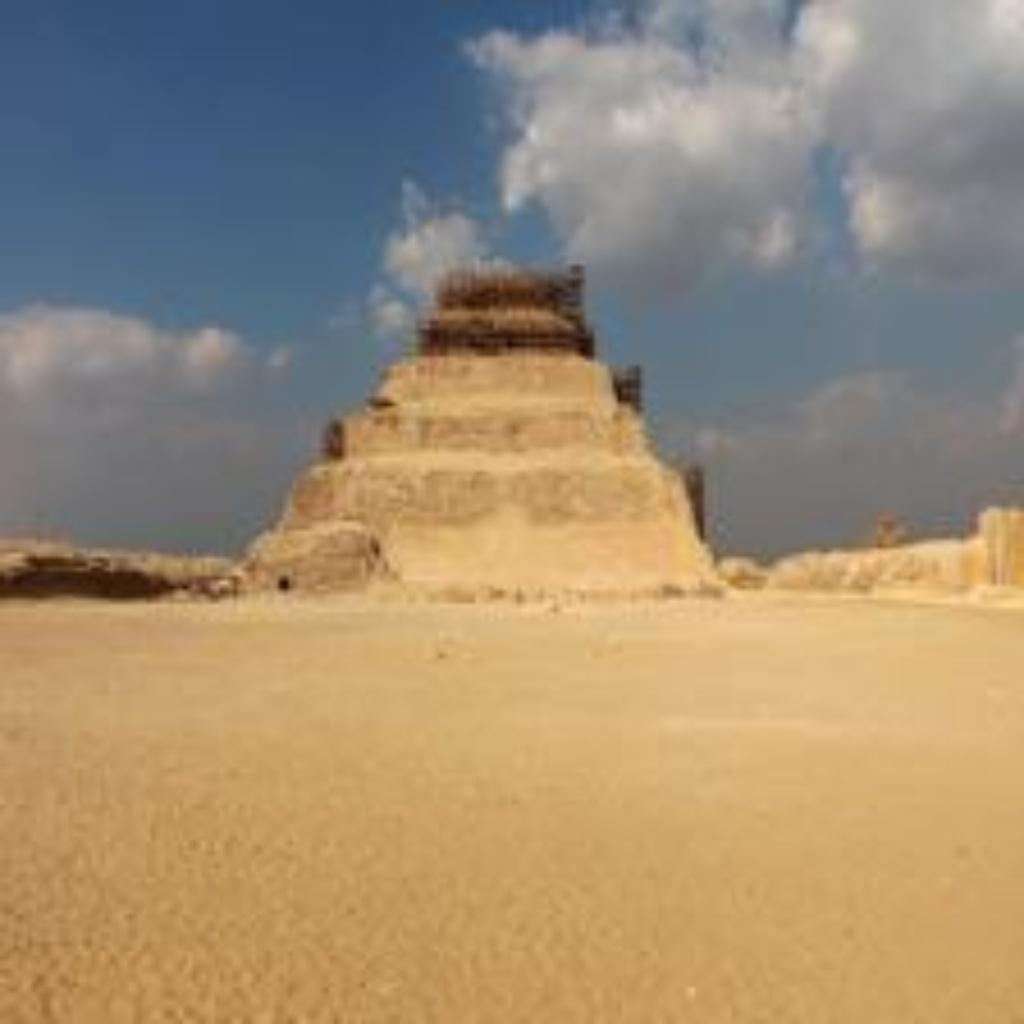Pyramid of Djoser: (228, 252, 726, 604)
